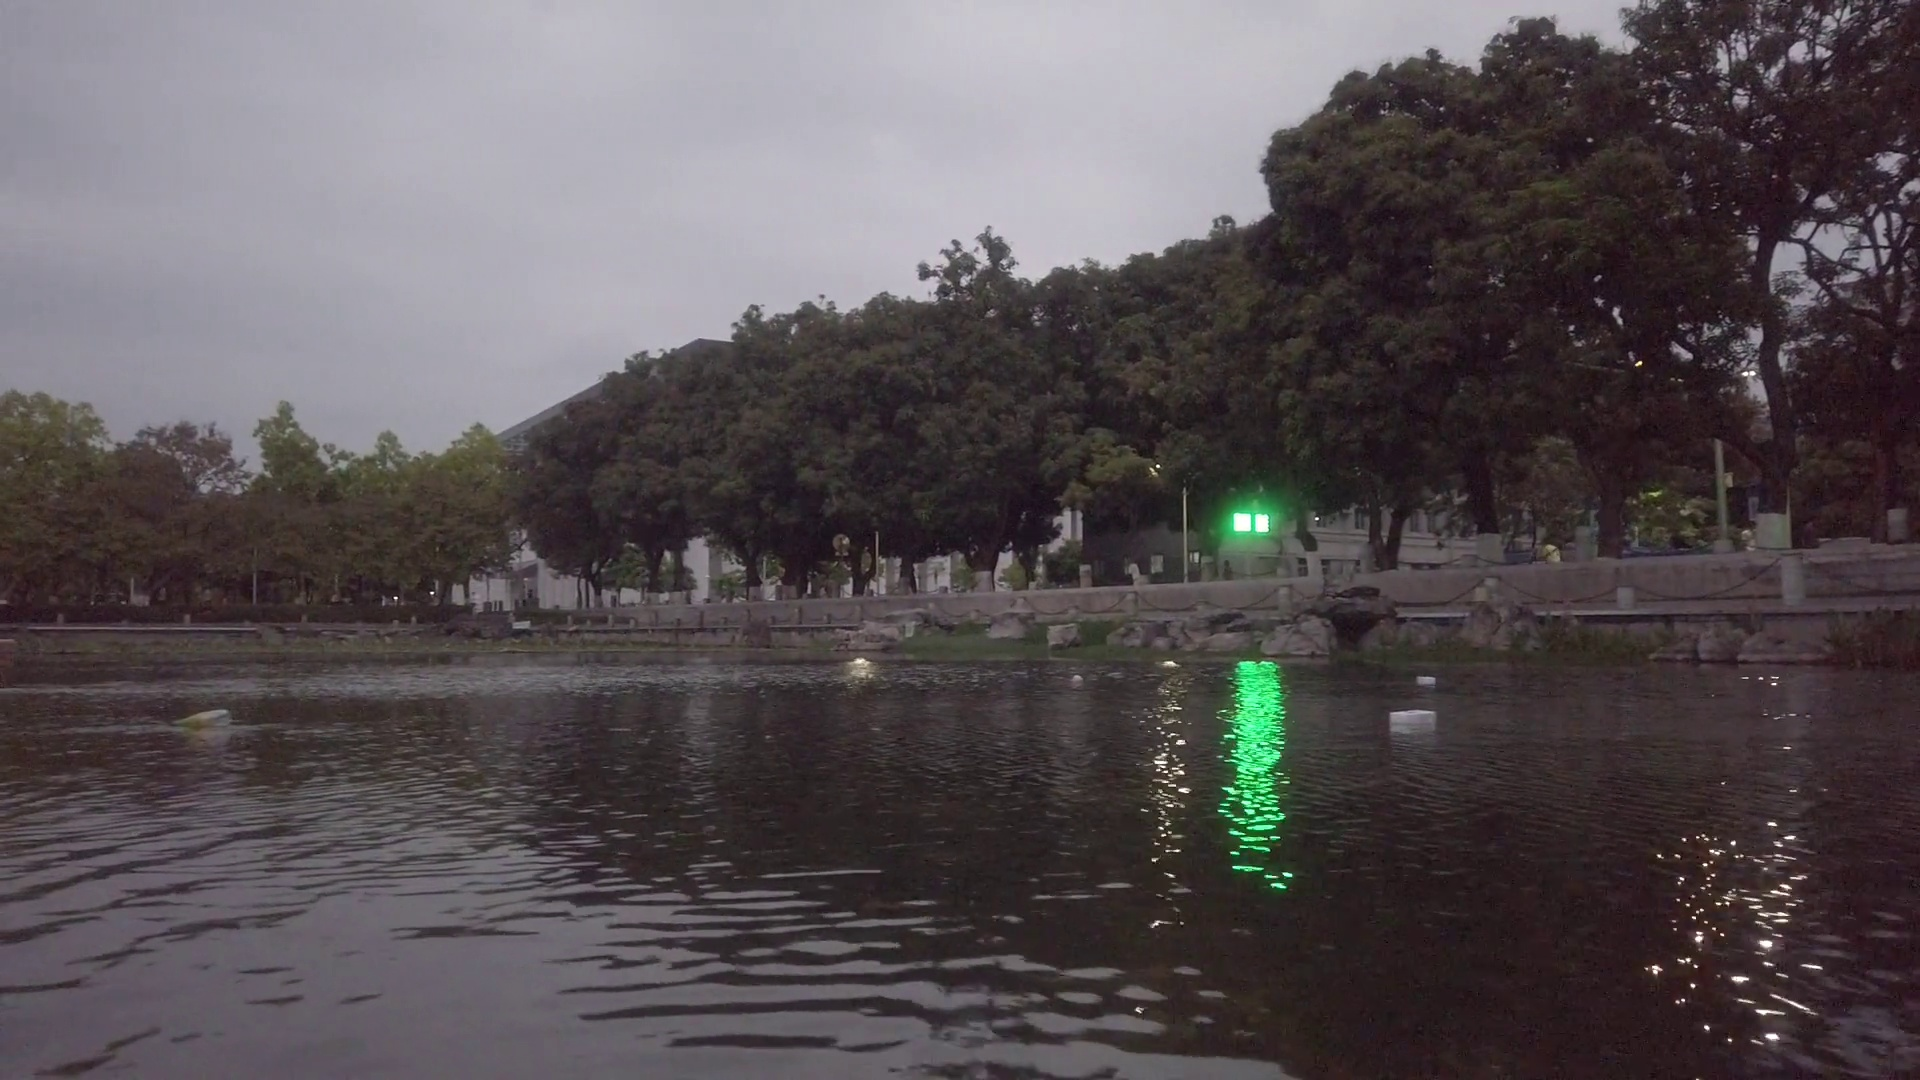bottle: (173, 705, 233, 729), (1072, 673, 1087, 684)
carton: (1385, 705, 1436, 732), (1415, 673, 1436, 684)
